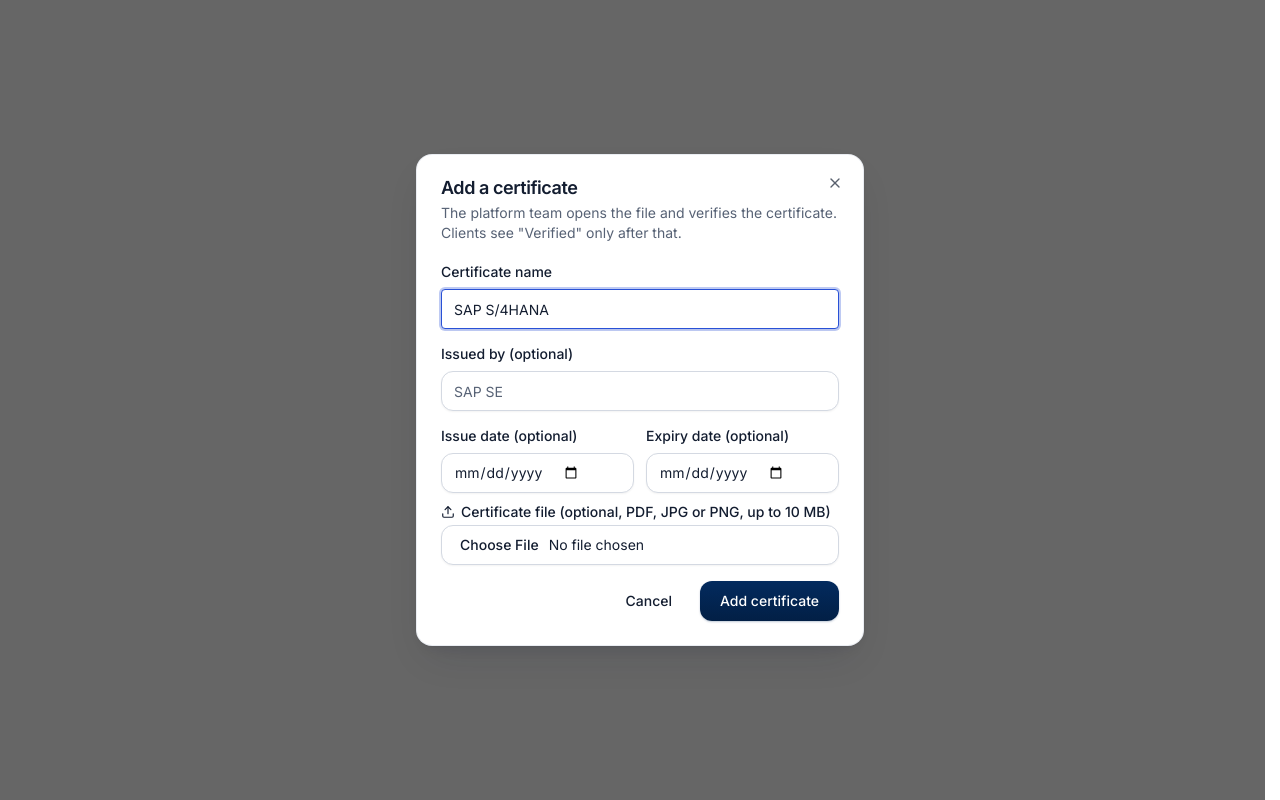
Scenario: AddCertificateDialog › removes the uploaded file again when the certificate can not be saved
Earlier steps of the test are not shown.
Click the button "Add certificate": (770, 601) 700,581 -> 839,621
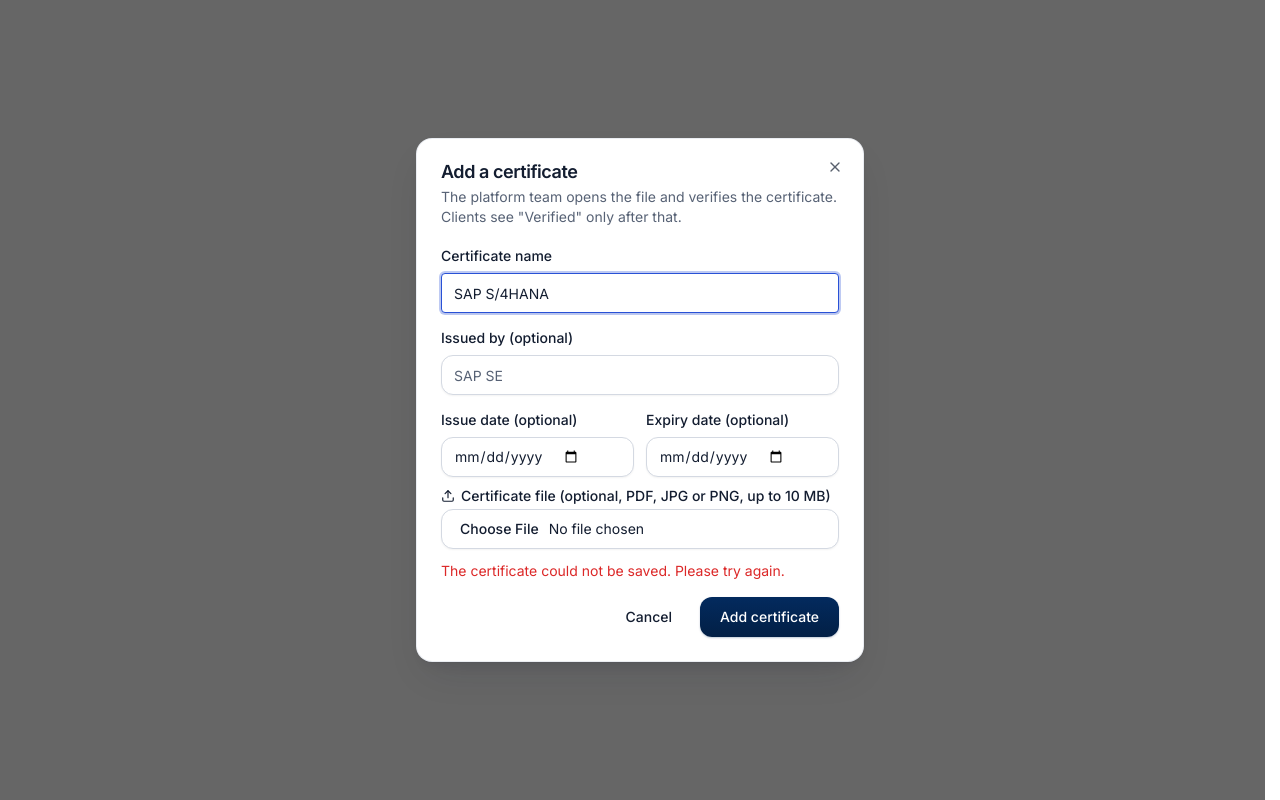
Expected: the message shows "could not be saved", 441,562 -> 785,579
